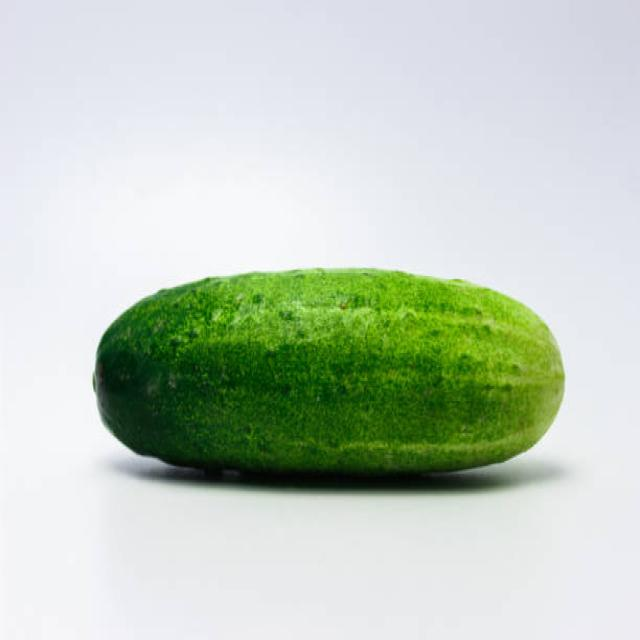cucumber: (92, 264, 566, 476)
